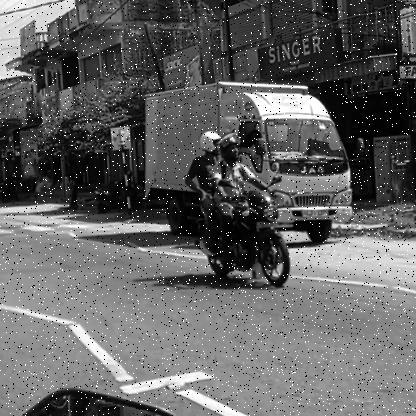motorcycle: (192, 188, 294, 291)
